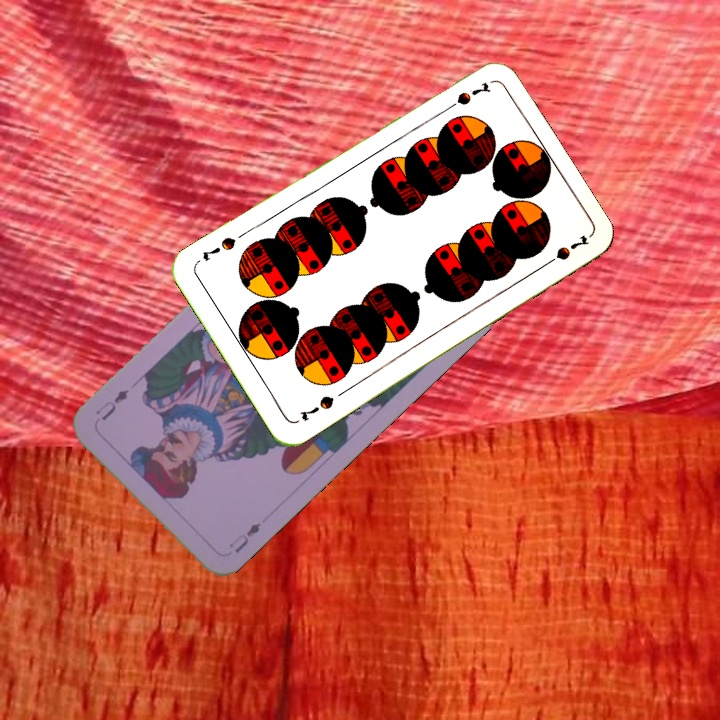EU: (225, 518, 264, 556)
S7: (439, 78, 493, 115), (295, 391, 337, 424)
